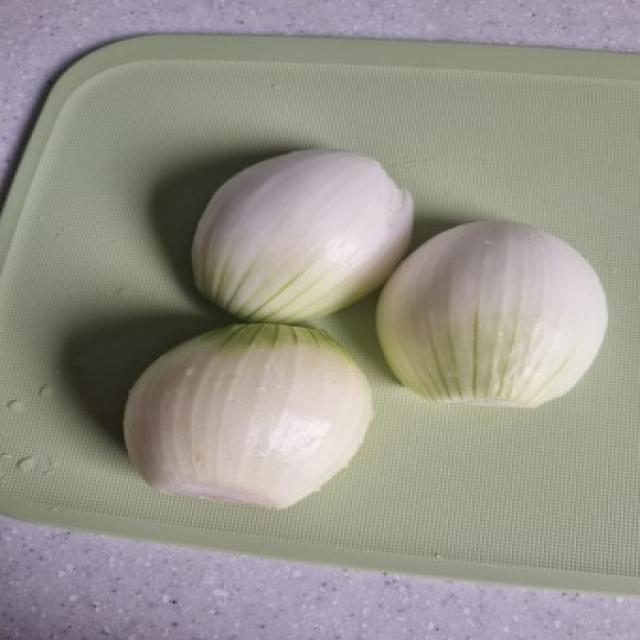onion: (98, 316, 400, 512), (403, 204, 620, 426), (181, 121, 379, 322)
